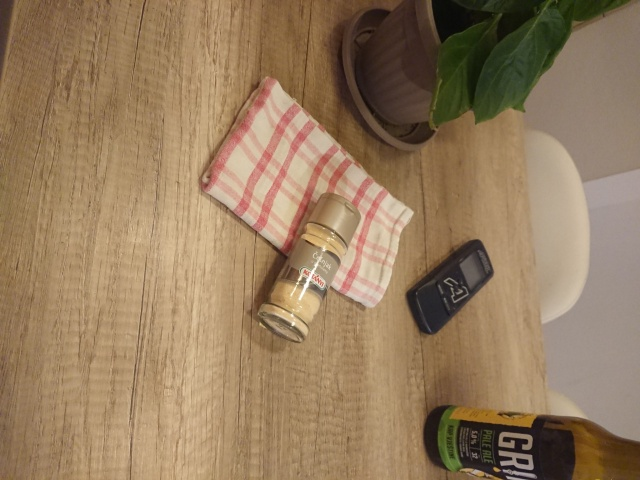Kotanyi Garlic Granules 70g: (255, 191, 365, 345)
